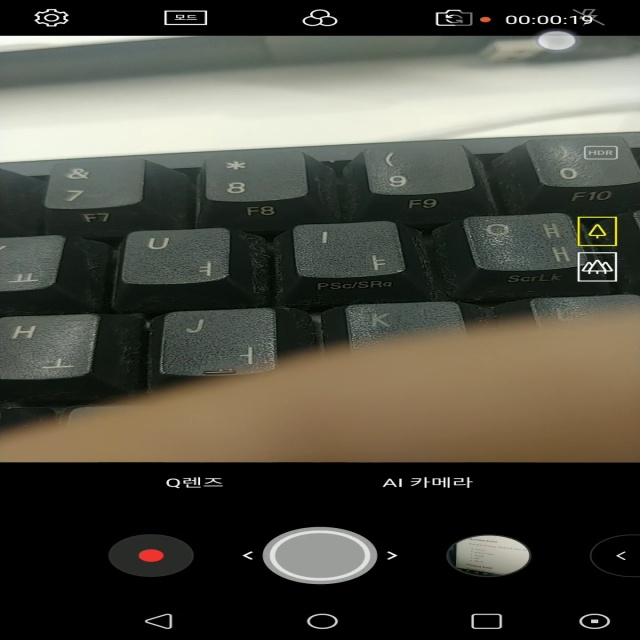Cursor: (534, 30, 578, 52)
